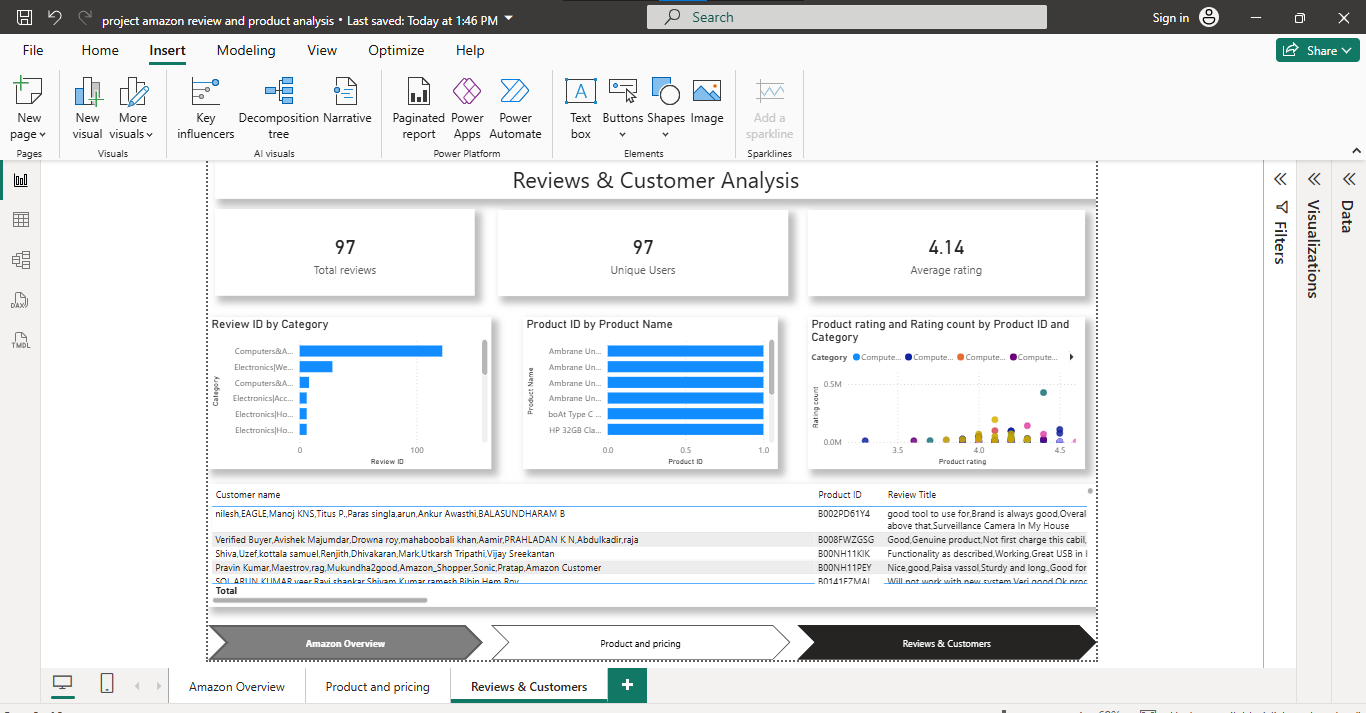

The dashboard page shown, as its layout file describes it:
{"tool":"powerbi","page":{"name":"Reviews & Customers","canvas":[1280,720],"ordinal":2},"visuals":[{"type":"textbox","box":[10.1,0,1270.1,56.2],"z":0},{"type":"card","fields":{"Values":["review.Total reviews"]},"box":[10.1,70.6,374.4,125.3],"z":1000},{"type":"card","fields":{"Values":["users.Unique Users"]},"box":[417.6,72,417.6,123.8],"z":2000},{"type":"card","fields":{"Values":["products.Average rating"]},"box":[864,72,398.9,123.8],"z":3000},{"type":"clusteredBarChart","fields":{"Y":["CountNonNull(review.Review ID)"],"Category":["products.Category"]},"box":[0,226.1,407.5,218.9],"z":4000},{"type":"barChart","fields":{"Y":["CountNonNull(products.Product ID)"],"Category":["products.Product Name"]},"box":[453.6,226.1,367.2,218.9],"z":5000},{"type":"scatterChart","fields":{"X":["Sum(products.Product rating)"],"Y":["Sum(products.Popularity)"],"Series":["products.Category"],"Category":["products.Product ID"]},"box":[864,226.1,398.9,218.9],"z":6000},{"type":"tableEx","fields":{"Values":["review.Customer name","review.Product ID","review.Review Title","review.Review ID","products.Product Name","products.Category","Sum(products.Product rating)"]},"box":[0,466.6,1280.2,177.1],"z":7000},{"type":"pageNavigator","box":[407.5,669.6,872.6,50.4],"z":7001},{"type":"actionButton","box":[0,669.6,396,50.4],"z":7002}]}

Visuals, with their boxes on the page's 1280x720 design canvas (x1, y1, x2, y2). These are canvas units, not pixel positions in the 1366x713 screenshot, which may show the page scaled, cropped or inside an application window:
textbox: (x1=10, y1=0, x2=1280, y2=56)
card - review.Total reviews: (x1=10, y1=71, x2=384, y2=196)
card - users.Unique Users: (x1=418, y1=72, x2=835, y2=196)
card - products.Average rating: (x1=864, y1=72, x2=1263, y2=196)
clusteredBarChart - CountNonNull(review.Review ID) x products.Category: (x1=0, y1=226, x2=408, y2=445)
barChart - CountNonNull(products.Product ID) x products.Product Name: (x1=454, y1=226, x2=821, y2=445)
scatterChart - Sum(products.Product rating) x Sum(products.Popularity): (x1=864, y1=226, x2=1263, y2=445)
tableEx - review.Customer name x review.Product ID: (x1=0, y1=467, x2=1280, y2=644)
pageNavigator: (x1=408, y1=670, x2=1280, y2=720)
actionButton: (x1=0, y1=670, x2=396, y2=720)
